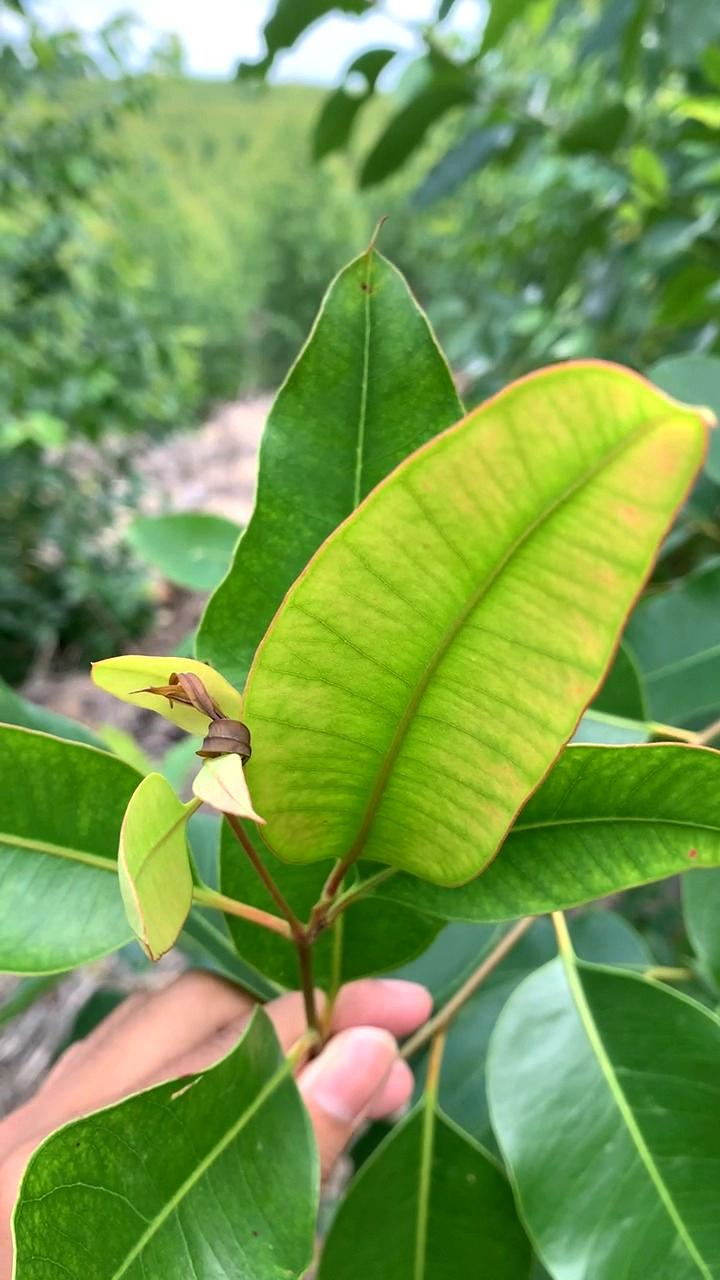Helopeltis-Withered Sprout: (128, 658, 279, 813)
